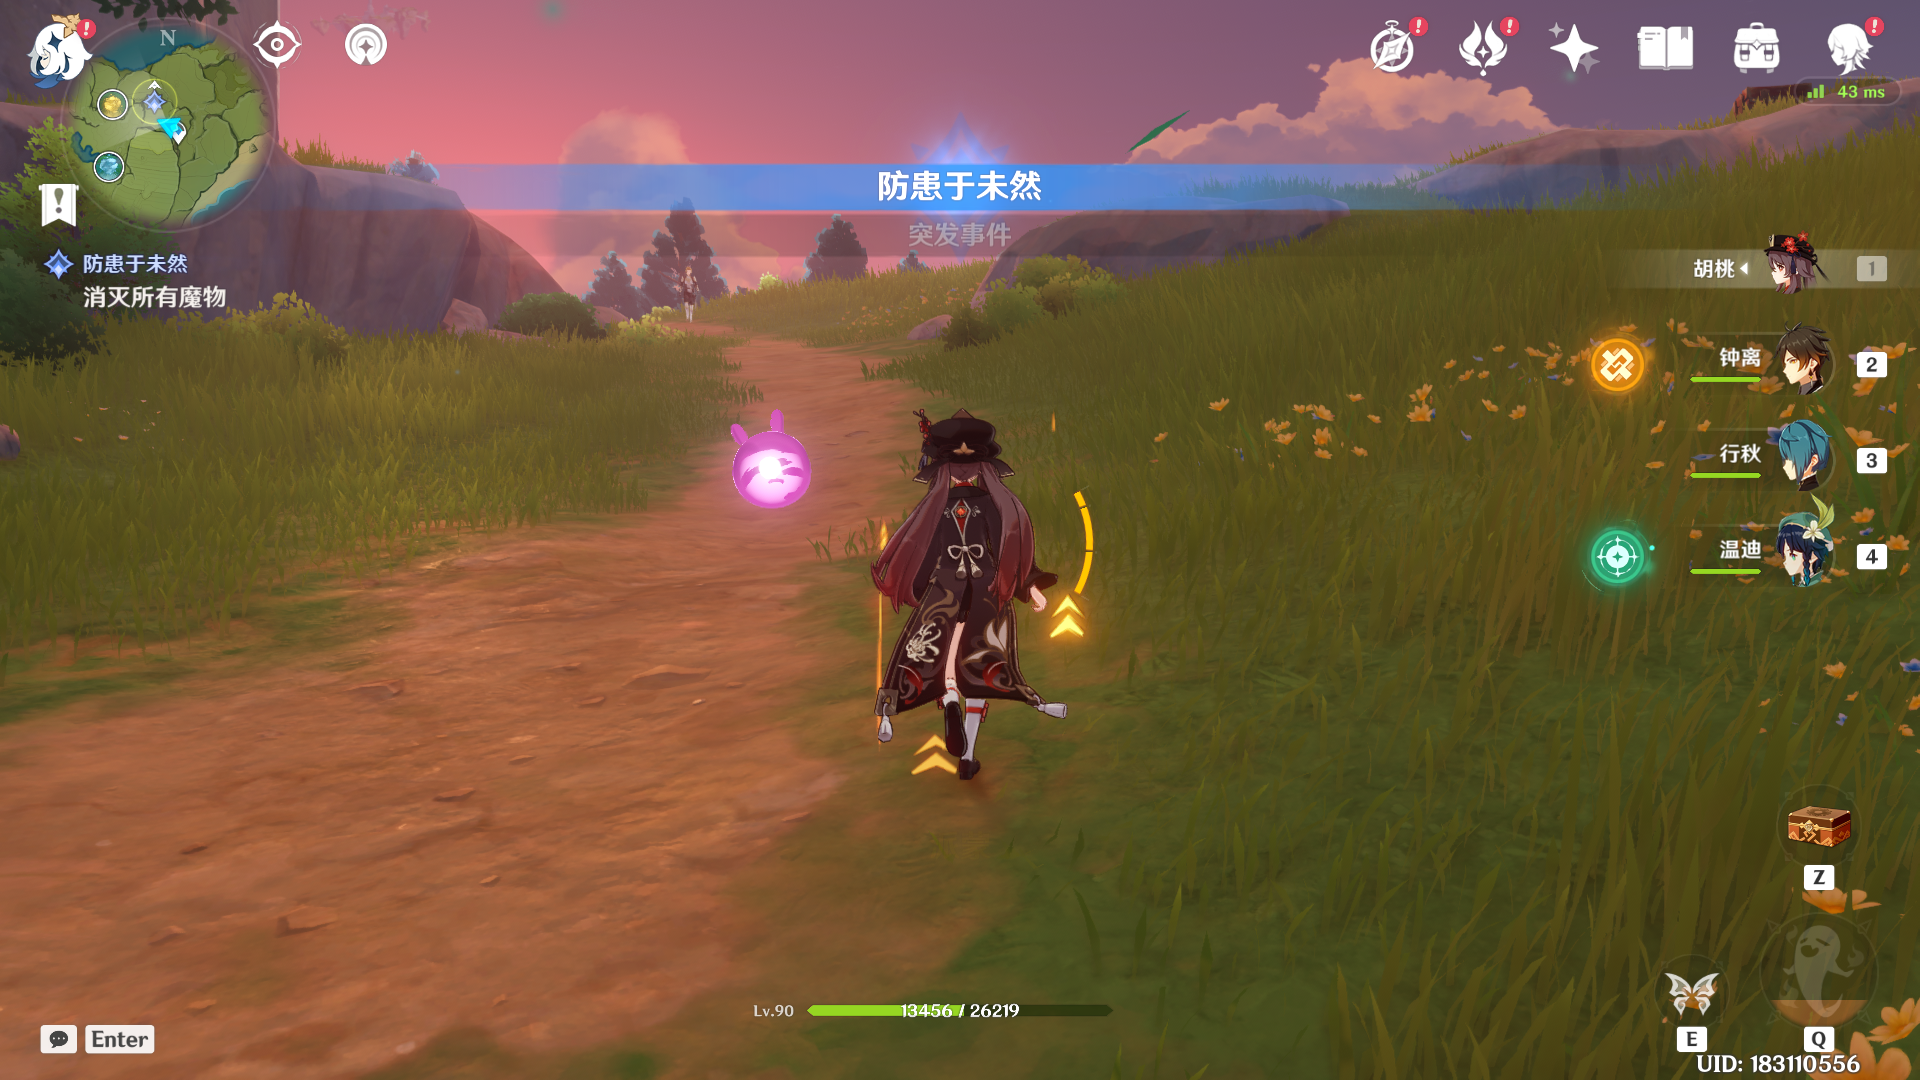character: (829, 381, 1145, 869)
